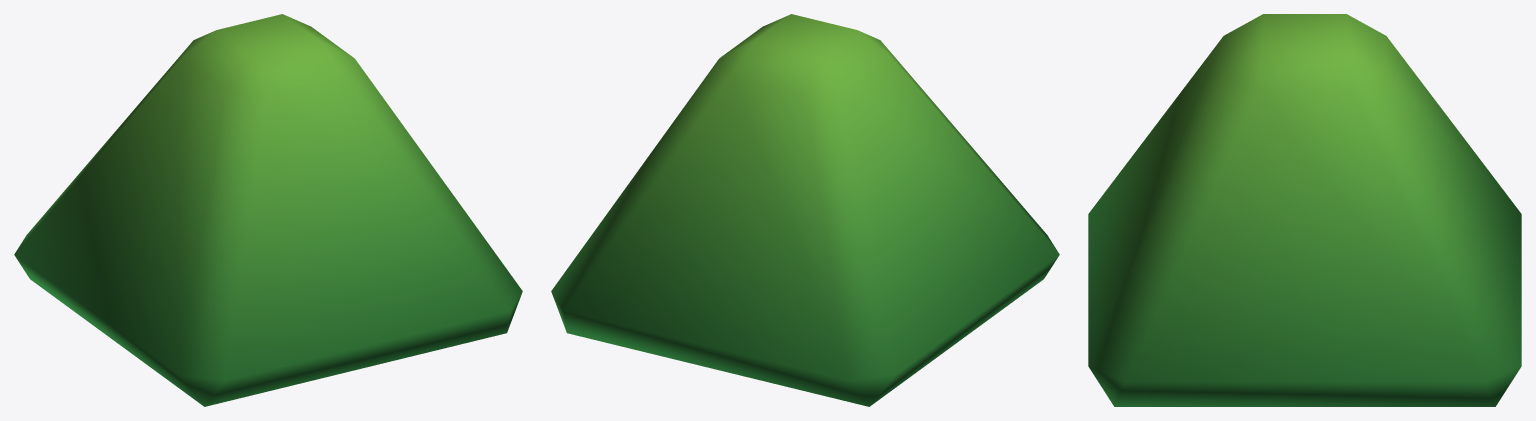
File: Bush_4_B_Color1.glb
The picture shows the model from 3 angles, left to right: view 1: azimuth 30°, elevation 25°; view 2: azimuth 150°, elevation 25°; view 3: azimuth 270°, elevation 25°; orthographic projection. The views are drawn at different scales.
Visible parts, largest first — view 1: Bush_4_B_Color1; view 2: Bush_4_B_Color1; view 3: Bush_4_B_Color1.
Part boxes in pixels (x1,y1,x2,y2): Bush_4_B_Color1: (14, 14, 522, 406); Bush_4_B_Color1: (551, 14, 1059, 406); Bush_4_B_Color1: (1088, 14, 1521, 406).
Size of the model in its own units: 0.9908 by 0.7434 by 0.9908.
Materials: 1 (1 with a texture image).
